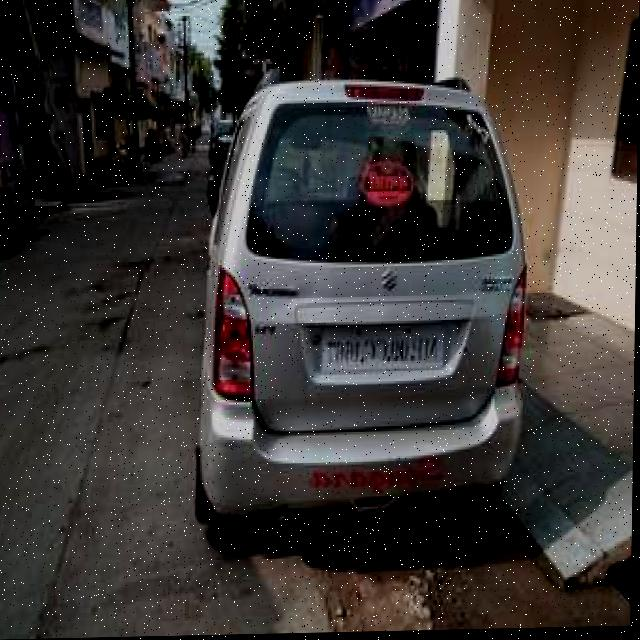plate: (319, 326, 446, 377)
